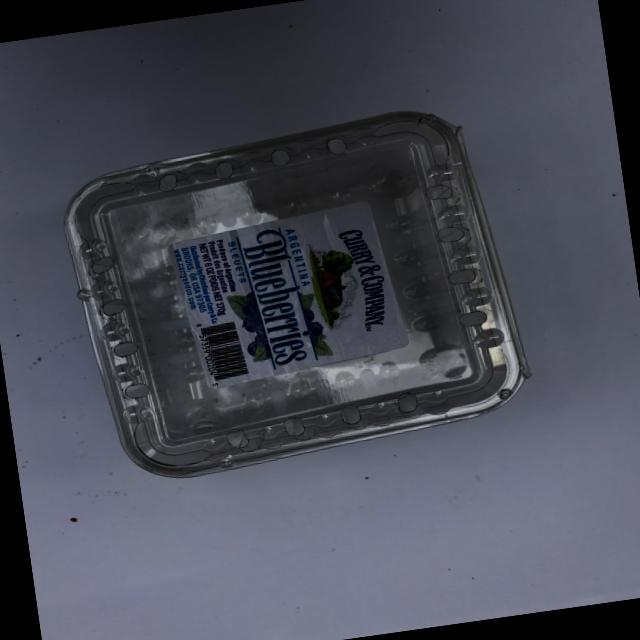Plastic: (35, 68, 546, 544)
